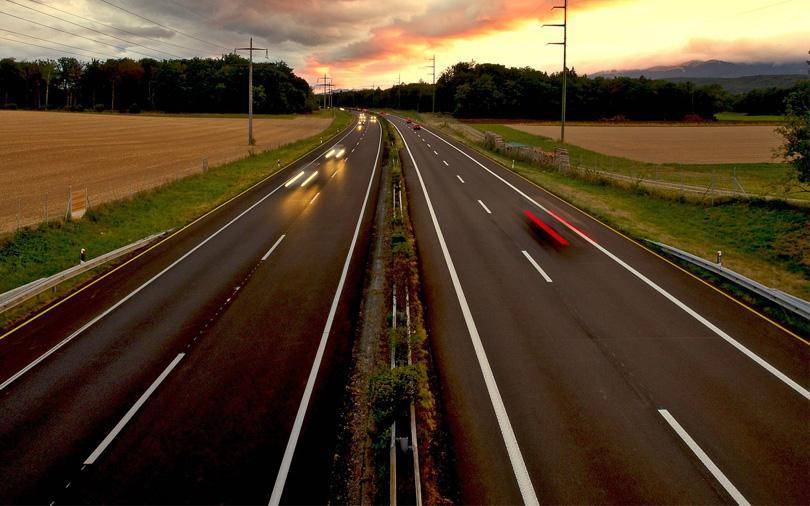shadow: (517, 197, 596, 266), (275, 160, 326, 202), (316, 136, 358, 167)
